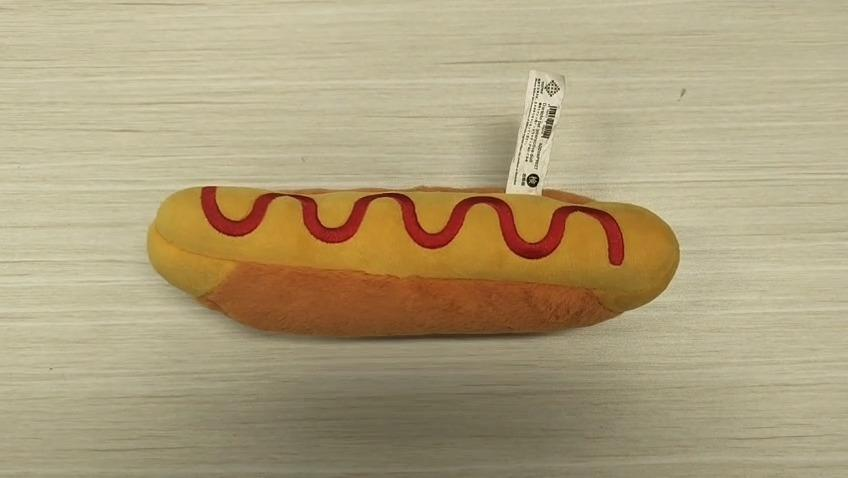hotdog: (146, 182, 680, 339)
